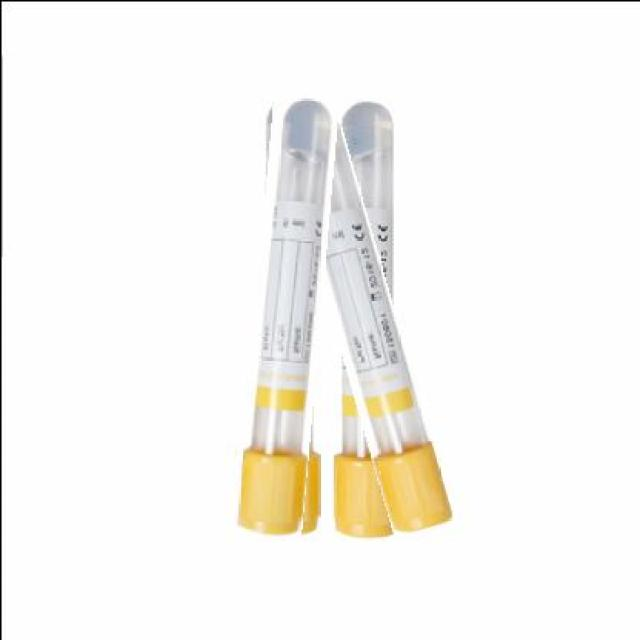Experimental-tube: (303, 102, 423, 536), (245, 96, 328, 538)
